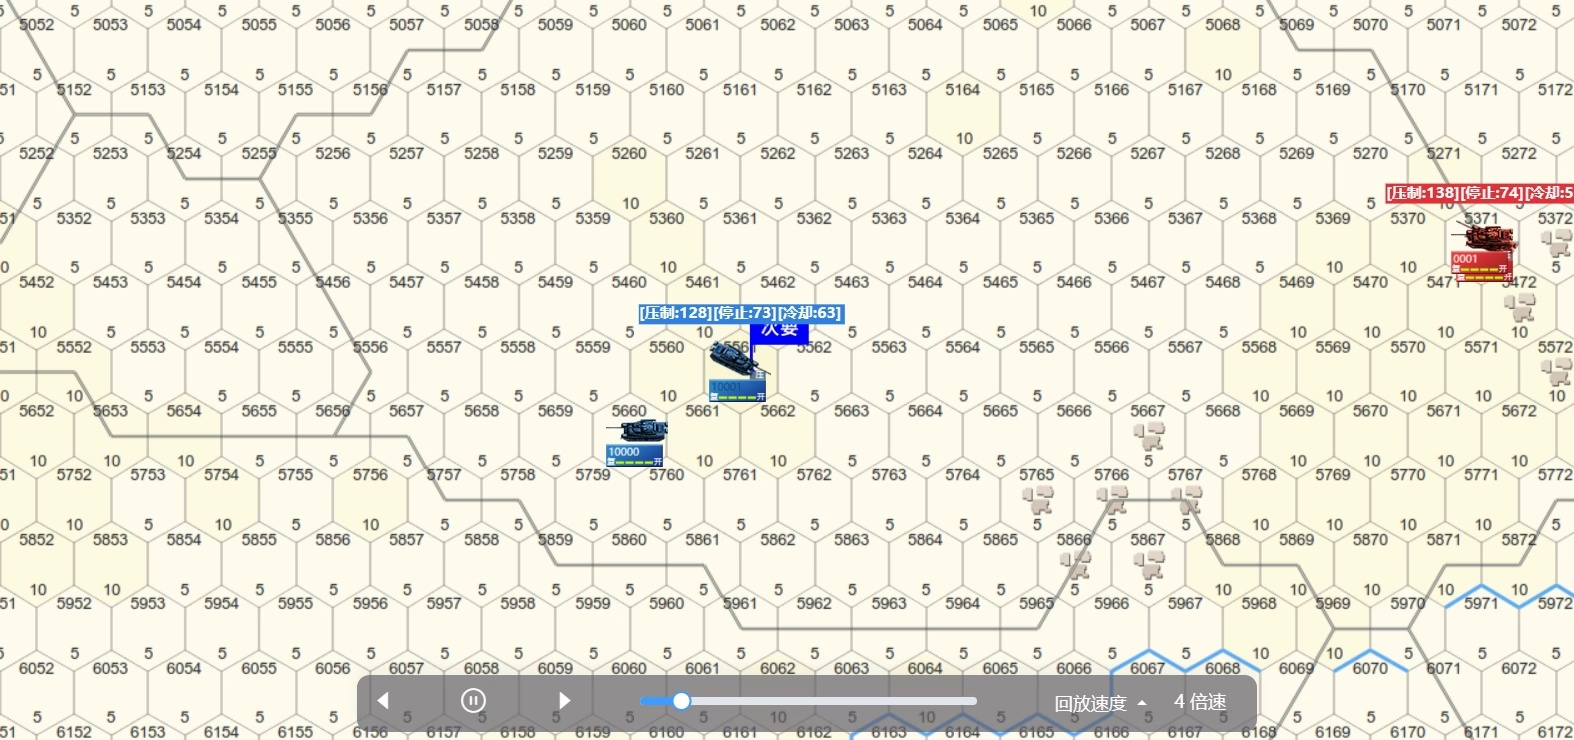blue_tank: (711, 336, 772, 410), (605, 418, 667, 462)
red_tank: (1453, 227, 1513, 281)
